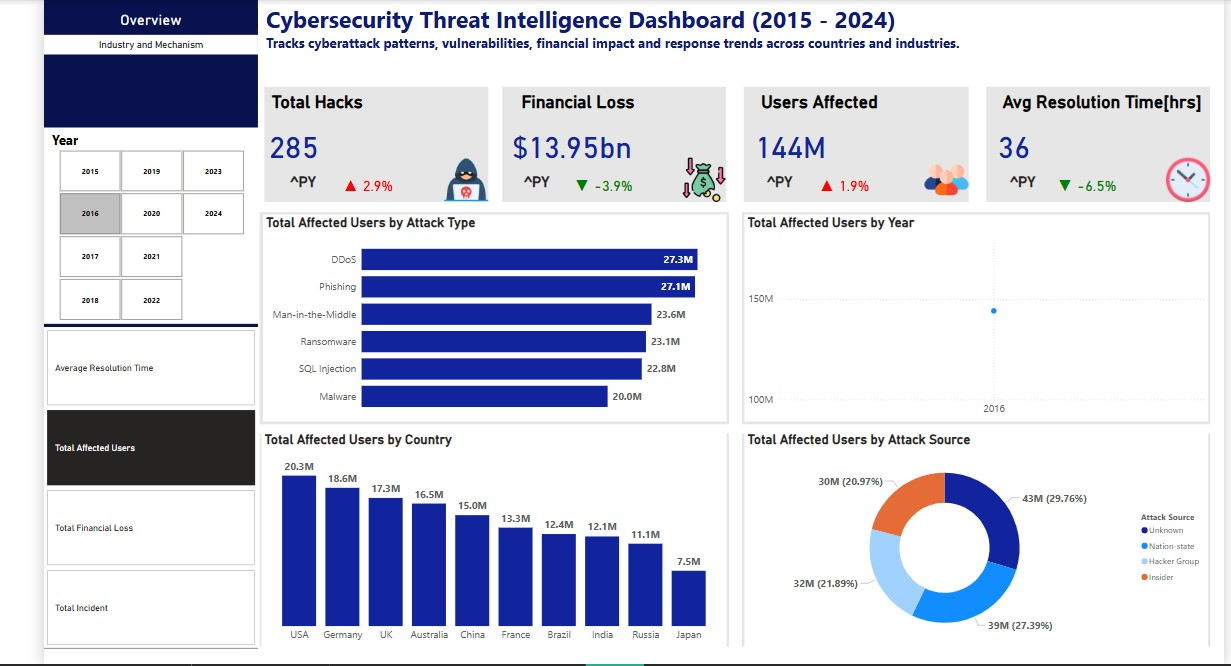

What the dashboard file says about the page in this screenshot:
{"tool":"powerbi","page":{"name":"Overview","canvas":[1920,1080],"ordinal":0},"visuals":[{"type":"shape","box":[0,0,348.2,1055],"z":0},{"type":"cardVisual","title":"Total Hacks","fields":{"Data":["DAX.Count"]},"box":[348.2,143.9,379.5,183.5],"z":1000},{"type":"cardVisual","title":"Total Hacks","fields":{"Data":["DAX.Total Financial Loss"]},"box":[744.1,143.9,363.5,183],"z":2000},{"type":"cardVisual","title":"Total Hacks","fields":{"Data":["DAX.Total Affected Users"]},"box":[1138.9,143.6,365.4,183.9],"z":3000},{"type":"cardVisual","title":"Total Hacks","fields":{"Data":["DAX.Average Resolution Time"]},"box":[1534.5,143.6,365.4,183.9],"z":4000},{"type":"textbox","box":[355.3,143.6,176.4,47.9],"z":5000},{"type":"textbox","box":[750.9,143.6,234.3,47.9],"z":6000},{"type":"textbox","box":[1146.5,143.6,229.3,47.9],"z":7000},{"type":"card","fields":{"Values":["DAX.Count YoY"]},"box":[460.5,275.2,135.7,52.1],"z":8000,"group":"g1"},{"type":"textbox","box":[1542,143.6,357.8,47.9],"z":8000},{"type":"card","fields":{"Values":["DAX.Financial Loss YoY"]},"box":[834,275.2,150.1,52.1],"z":9000},{"type":"textbox","box":[354.4,275.2,135.7,52.1],"z":9001,"group":"g1"},{"type":"card","fields":{"Values":["DAX.Affected Users YoY"]},"box":[1228,275.2,148,52.1],"z":10000},{"type":"card","fields":{"Values":["DAX.Resolution time YoY"]},"box":[1624.2,275.2,141.8,52.1],"z":11000},{"type":"slicer","fields":{"Values":["Calendar.Year"]},"box":[0,207.4,348.9,319.6],"z":12000},{"type":"textbox","box":[744.3,275.2,114.7,52.1],"z":13000},{"type":"textbox","box":[1138.4,275.2,114.7,52.1],"z":14000},{"type":"textbox","box":[1534.5,275.2,114.7,52.1],"z":15000},{"type":"group","id":"g1","title":"Group 1","box":[354.4,275.2,241.9,52.1],"z":16000},{"type":"pageNavigator","box":[0,14.6,348.9,75.6],"z":19000},{"type":"textbox","box":[356.2,0,1183,143],"z":21000},{"type":"advancedSlicerVisual","fields":{"Values":["Parameter.Parameter"]},"box":[0,531.9,348.9,522.1],"z":21001},{"type":"barChart","fields":{"Category":["Attack.Attack Type"],"Y":["DAX.Total Affected Users"]},"box":[356.2,348.9,753.9,336.7],"z":21002},{"type":"lineChart","fields":{"Category":["Calendar.Year"],"Y":["DAX.Total Affected Users"]},"box":[1139.4,348.9,753.9,336.7],"z":21003},{"type":"columnChart","fields":{"Category":["Country.Country"],"Y":["DAX.Total Affected Users"]},"box":[353.8,702.7,756.3,351.3],"z":21004},{"type":"donutChart","fields":{"Category":["Attack Source.Attack Source"],"Y":["DAX.Total Affected Users"]},"box":[1139.4,702.7,753.9,351.3],"z":21005}]}

Visuals, with their boxes on the page's 1920x1080 design canvas (x1, y1, x2, y2). These are canvas units, not pixel positions in the 1231x666 screenshot, which may show the page scaled, cropped or inside an application window:
shape: [0, 0, 348, 1055]
"Total Hacks" cardVisual: [348, 144, 728, 327]
"Total Hacks" cardVisual: [744, 144, 1108, 327]
"Total Hacks" cardVisual: [1139, 144, 1504, 328]
"Total Hacks" cardVisual: [1534, 144, 1900, 328]
textbox: [355, 144, 532, 192]
textbox: [751, 144, 985, 192]
textbox: [1146, 144, 1376, 192]
card - DAX.Count YoY: [460, 275, 596, 327]
textbox: [1542, 144, 1900, 192]
card - DAX.Financial Loss YoY: [834, 275, 984, 327]
textbox: [354, 275, 490, 327]
card - DAX.Affected Users YoY: [1228, 275, 1376, 327]
card - DAX.Resolution time YoY: [1624, 275, 1766, 327]
slicer - Calendar.Year: [0, 207, 349, 527]
textbox: [744, 275, 859, 327]
textbox: [1138, 275, 1253, 327]
textbox: [1534, 275, 1649, 327]
"Group 1" group: [354, 275, 596, 327]
pageNavigator: [0, 15, 349, 90]
textbox: [356, 0, 1539, 143]
advancedSlicerVisual - Parameter.Parameter: [0, 532, 349, 1054]
barChart - Attack.Attack Type x DAX.Total Affected Users: [356, 349, 1110, 686]
lineChart - Calendar.Year x DAX.Total Affected Users: [1139, 349, 1893, 686]
columnChart - Country.Country x DAX.Total Affected Users: [354, 703, 1110, 1054]
donutChart - Attack Source.Attack Source x DAX.Total Affected Users: [1139, 703, 1893, 1054]
